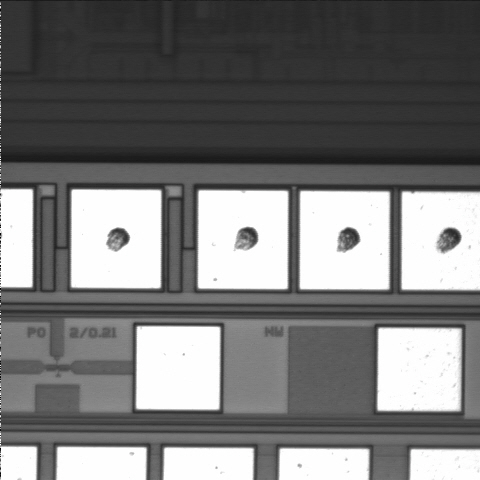pad: (198, 190, 288, 289), (71, 190, 161, 288), (300, 191, 390, 289), (136, 326, 220, 410), (377, 328, 461, 411)
